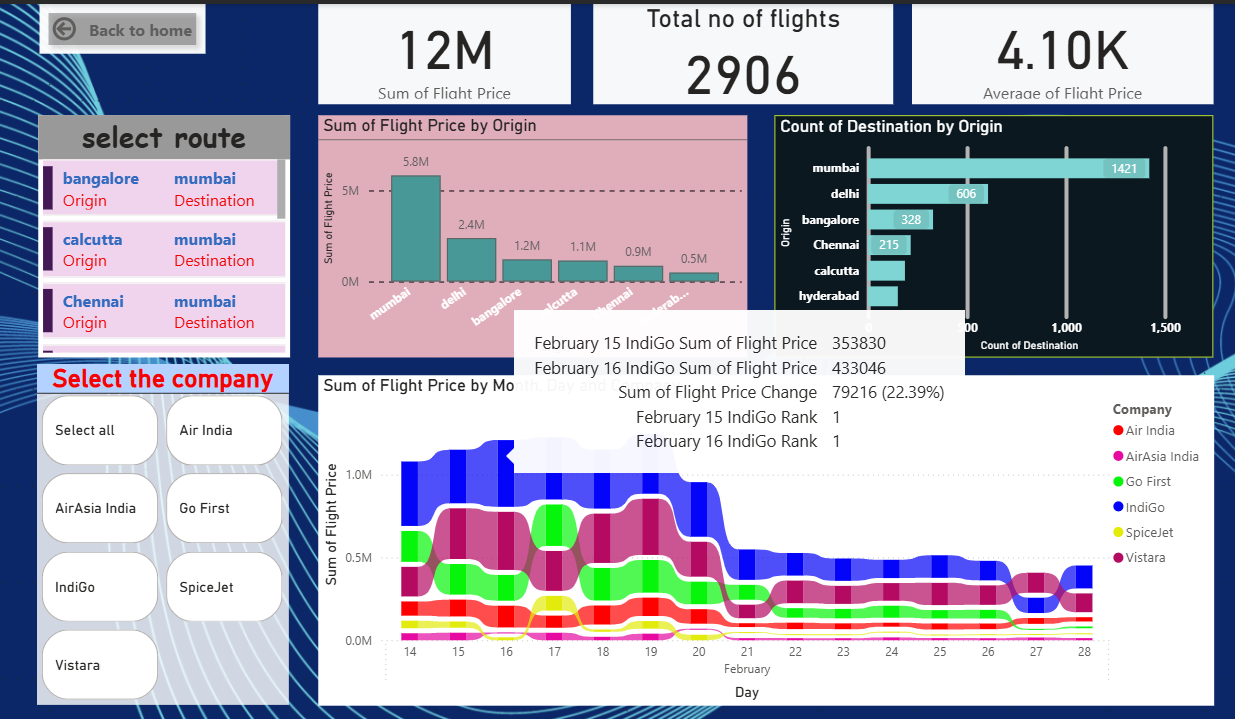

What the dashboard file says about the page in this screenshot:
{"tool":"powerbi","page":{"name":"Page 1","canvas":[1280,720],"ordinal":1},"visuals":[{"type":"barChart","fields":{"Category":["Table1.Origin"],"Y":["CountNonNull(Table1.Destination)"]},"box":[820.6,111.1,437.7,241.5],"z":0},{"type":"lineStackedColumnComboChart","title":"Revenue per city","fields":{"Category":["Table1.Origin"],"Y":["Sum(Table1.Flight Price)"]},"box":[365.1,110.5,427.6,241.5],"z":1000},{"type":"multiRowCard","title":"select route","fields":{"Values":["Table1.Origin","Table1.Destination"]},"box":[84.8,63.6,251.8,289.2],"z":2000},{"type":"ribbonChart","title":"Revenue of airline","fields":{"Category":["Table1.Date.Variation.Date Hierarchy.Month","Table1.Date.Variation.Date Hierarchy.Day"],"Y":["Sum(Table1.Flight Price)"],"Series":["Table1.Company"]},"box":[365,370.5,893.3,329.3],"z":3000},{"type":"advancedSlicerVisual","title":"Select the company","fields":{"Values":["Table1.Company"]},"box":[84.8,370.3,251.8,329.1],"z":4000},{"type":"card","title":"Earning potential","fields":{"Values":["Sum(Table1.Flight Price)"]},"box":[365.3,0,251.8,102.2],"z":5000},{"type":"card","title":"Total no of flights","fields":{"Values":["CountNonNull(Table1.Company)"]},"box":[639.6,0,299.2,102.2],"z":6000},{"type":"card","title":"Average flight price","fields":{"Values":["Avg(Table1.Flight Price)"]},"box":[957.5,0,301.7,102.2],"z":7000},{"type":"actionButton","box":[86.9,0,165.3,49.9],"z":8000}]}

Visuals, with their boxes in screenshot pixels (x1, y1, x2, y2):
barChart - Table1.Origin x CountNonNull(Table1.Destination): BBox(785, 110, 1232, 357)
"Revenue per city" lineStackedColumnComboChart: BBox(319, 110, 756, 357)
"select route" multiRowCard: BBox(32, 62, 290, 358)
"Revenue of airline" ribbonChart: BBox(319, 376, 1232, 712)
"Select the company" advancedSlicerVisual: BBox(32, 375, 290, 712)
"Earning potential" card: BBox(319, 0, 576, 101)
"Total no of flights" card: BBox(599, 0, 905, 101)
"Average flight price" card: BBox(925, 0, 1233, 101)
actionButton: BBox(34, 0, 203, 48)
